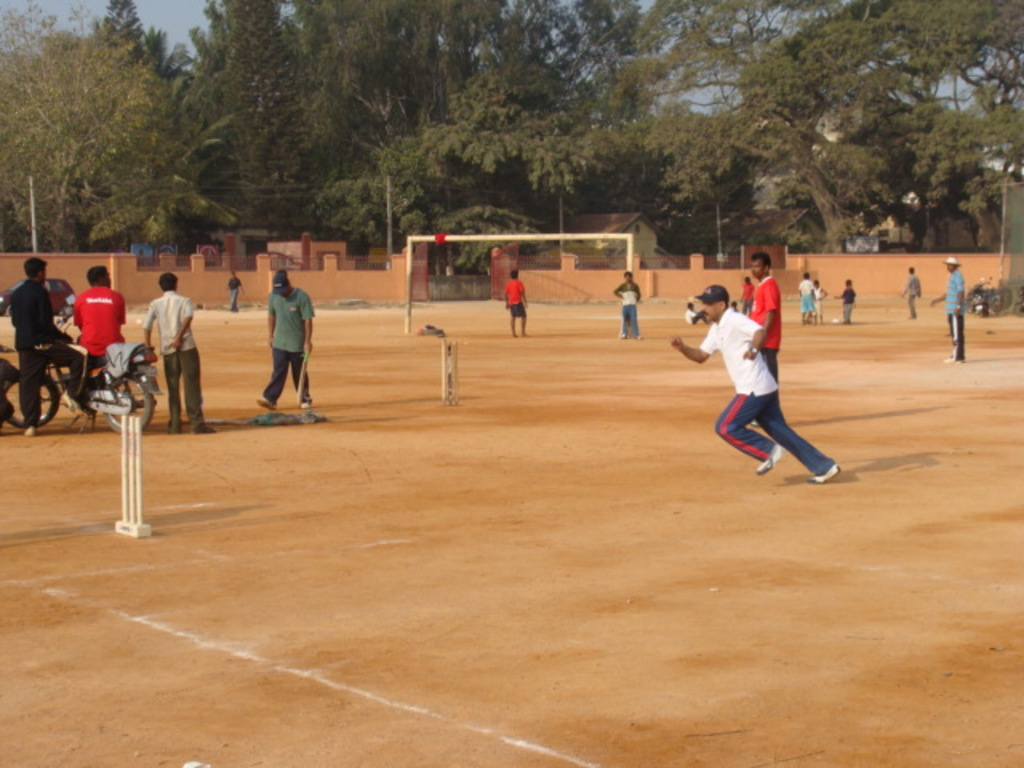Person: (0, 251, 964, 485)
